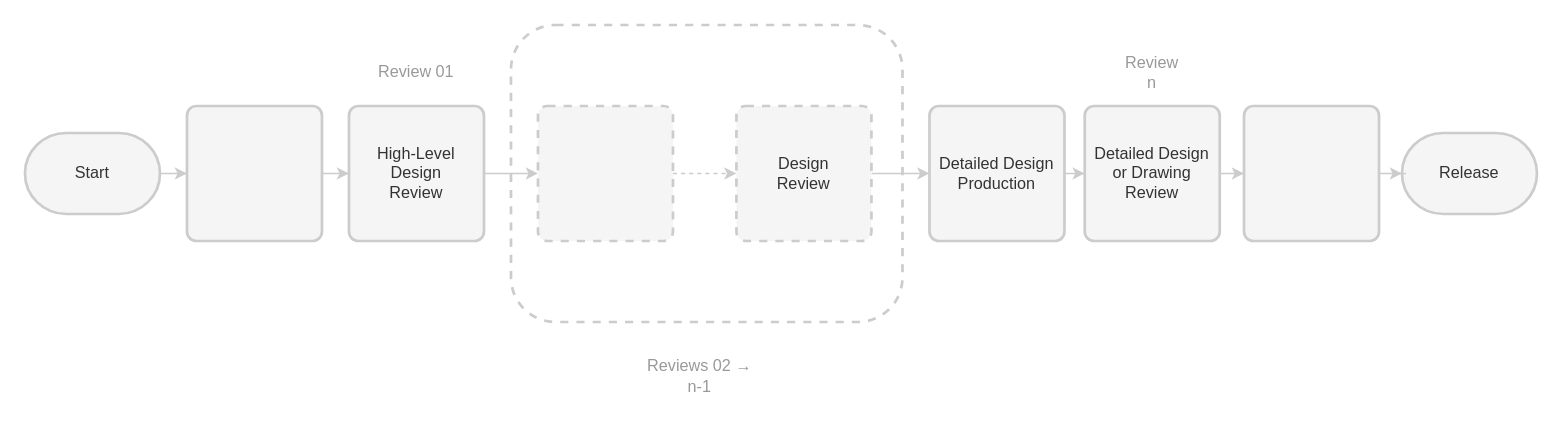
Some shapes in this 1561 by 425 pixel diagram are drawn without their labels. The centre of each missing label's shape, as x and y in pixels:
"Design Modification" goes at pixel 605 173.
"Detailed Design Finalisation" goes at pixel 1311 173.
"Initial Design Work" goes at pixel 254 173.
